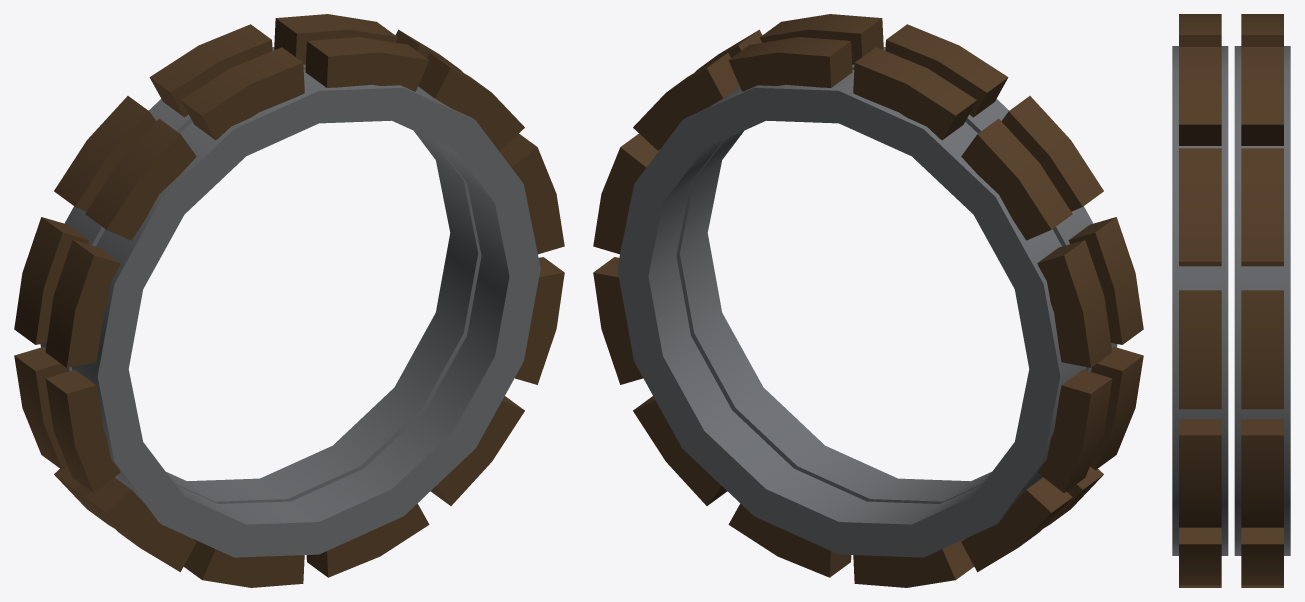
File: u70_coil_ring.obj
3 renders of one model, left to right at view 1: azimuth 30°, elevation 25°; view 2: azimuth 150°, elevation 25°; view 3: azimuth 270°, elevation 25°, orthographic.
Visible parts, largest first — view 1: u70_coil_ring; view 2: u70_coil_ring; view 3: u70_coil_ring.
Boxes of the visible parts, x1,y1,x2,y2 form: u70_coil_ring: (14,14,564,587); u70_coil_ring: (593,14,1143,587); u70_coil_ring: (1172,14,1290,587).
Size of the model in its own units: 4.31 by 4.31 by 0.89.
